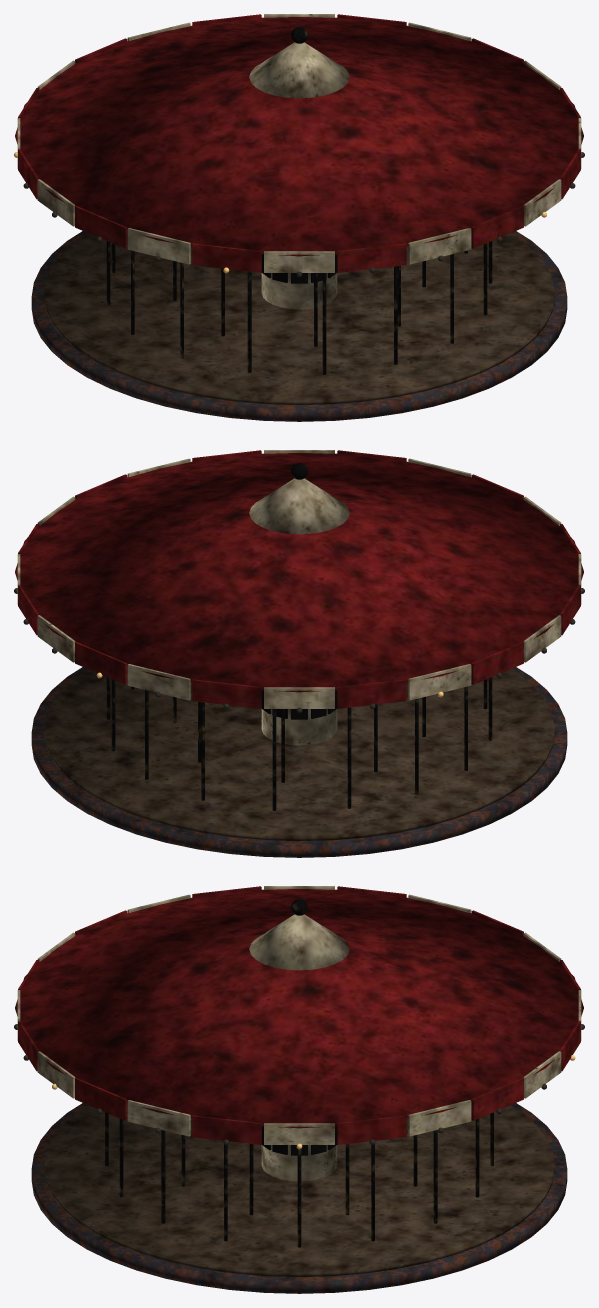
The model's file is carousel.glb.
The picture shows the model from 3 angles, top to bottom: view 1: azimuth 30°, elevation 25°; view 2: azimuth 150°, elevation 25°; view 3: azimuth 270°, elevation 25°; orthographic projection.
Parts seen in each view (by area): view 1: Spin, Main; view 2: Spin, Main; view 3: Spin, Main.
Part boxes in pixels (left/top/right/bottom): Spin: left=14, top=14, right=584, bottom=405; Main: left=31, top=231, right=567, bottom=421; Spin: left=14, top=450, right=584, bottom=841; Main: left=31, top=667, right=567, bottom=857; Spin: left=14, top=886, right=584, bottom=1277; Main: left=31, top=1103, right=567, bottom=1293.
Bounding box in the file's own units: 13.64 × 7.4 × 13.64.
Materials: 2 (2 with a texture image).
